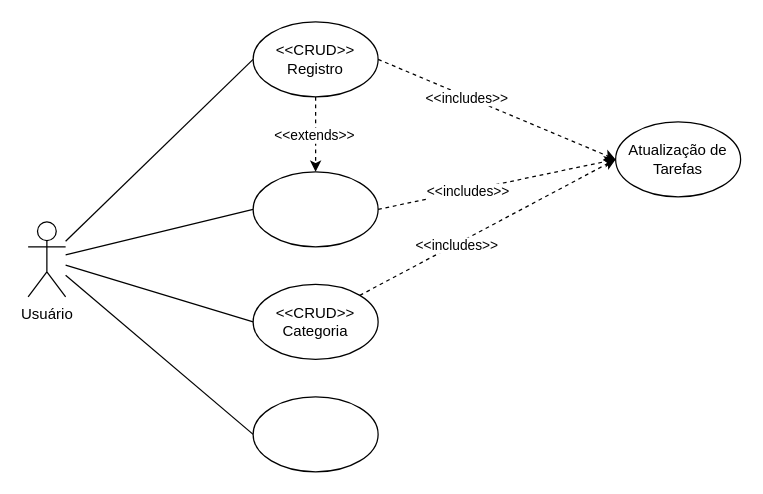
The diagram is 763 pixels wide and 494 high, and some of its shapes have lost their labels. The centre of each missing label's shape, as x and y in pixels:
<<CRUD>> Apontamento de Horas: [315,434]
<<CRUD>> Status_Tarefa: [315,209]
